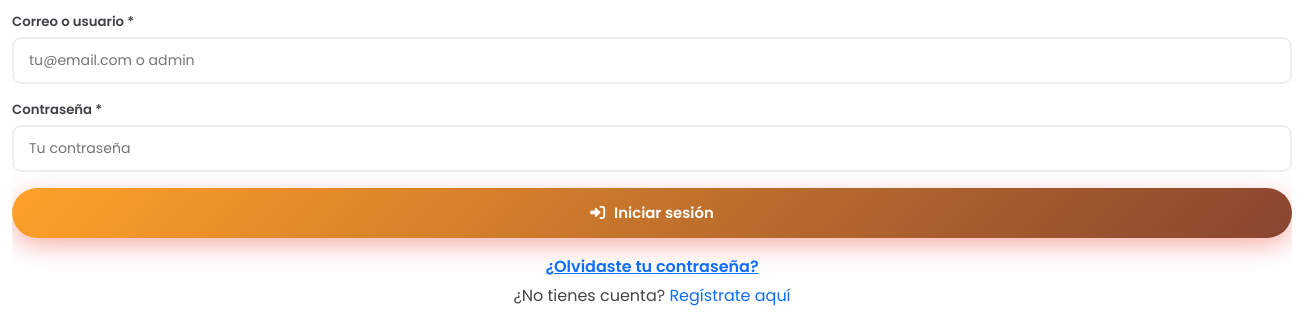
Test: FormLogin › en modo recuperar un correo no registrado muestra el aviso
This screenshot has width=1304, height=323.
Click the button "¿Olvidaste tu contraseña?" at (652, 267), box [544, 254, 760, 280]
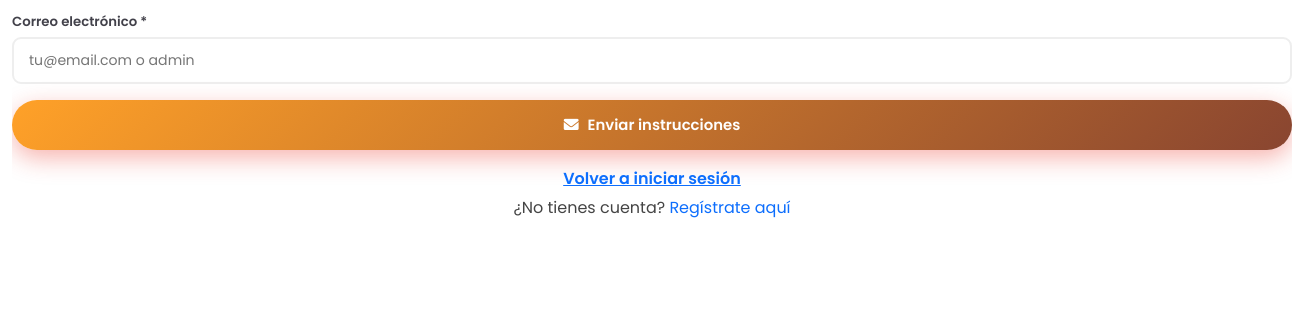
Type "nadie@correo.cl" into the field labelled "Correo electrónico *" at (652, 60), box [12, 37, 1292, 84]
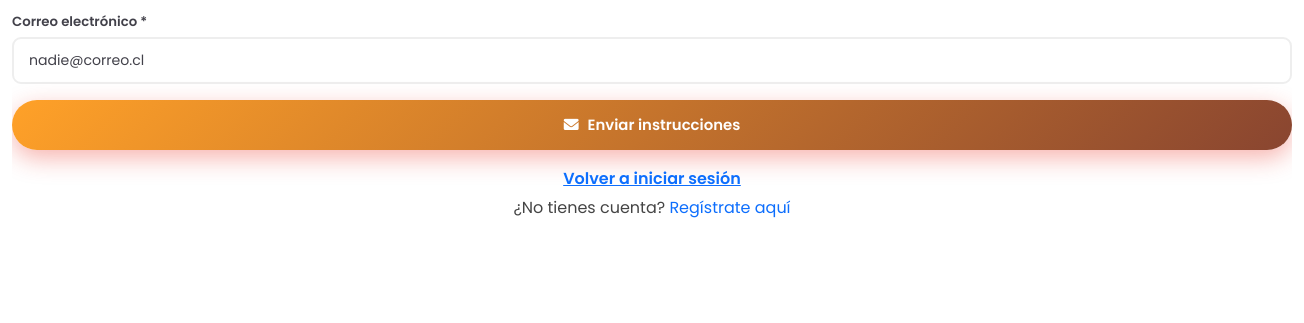
Click the button "Enviar instrucciones" at (652, 125), box [12, 100, 1292, 150]
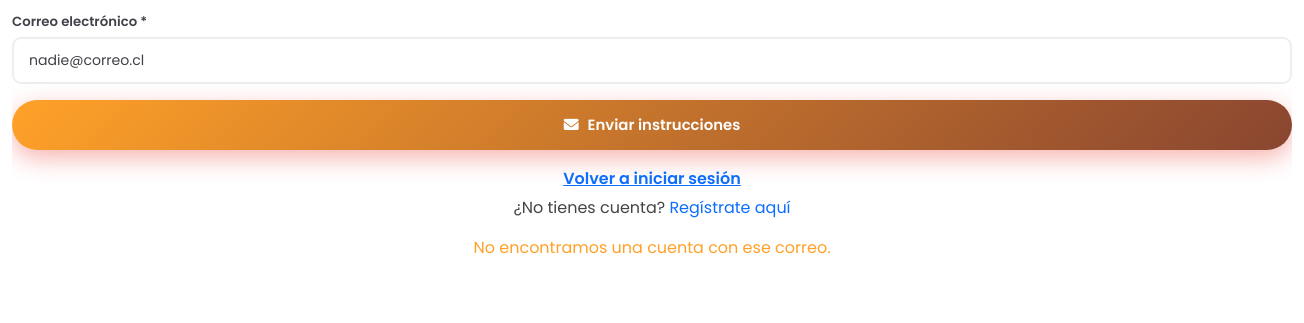
expect the text "No encontramos una cuenta con ese correo." is shown: met, box [474, 236, 830, 259]
